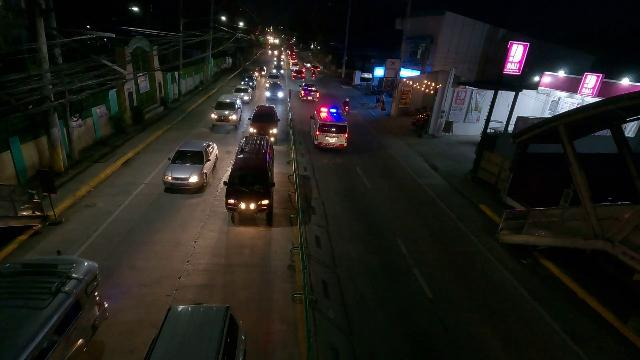car: (248, 102, 279, 143), (211, 94, 245, 128), (231, 85, 254, 105), (265, 80, 285, 100), (240, 73, 257, 88), (291, 68, 305, 81), (267, 73, 282, 85), (254, 65, 267, 78), (310, 64, 321, 74), (272, 65, 284, 74), (290, 62, 300, 72), (302, 61, 311, 69), (289, 58, 298, 66)
jeepney: (159, 138, 220, 193)
motorcycle: (311, 70, 316, 80)
pickup-truck: (299, 83, 320, 102)
van: (225, 135, 276, 220), (307, 104, 350, 153)
